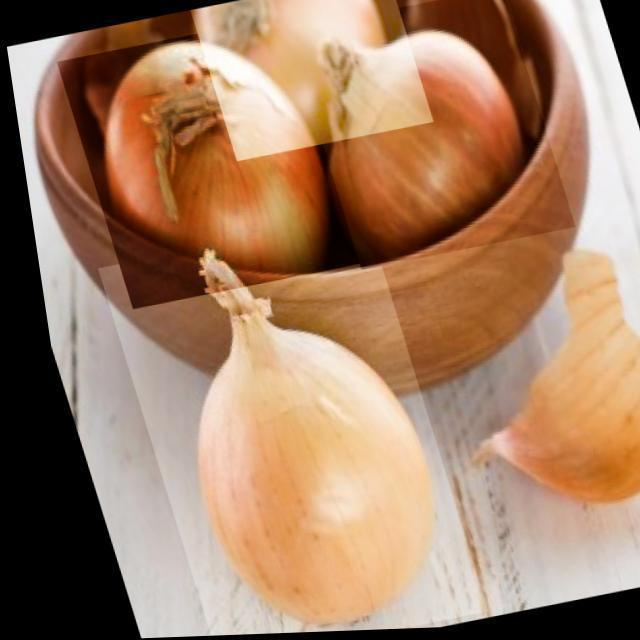Onion: (84, 216, 470, 638), (51, 17, 362, 310), (282, 0, 572, 273), (188, 0, 434, 164)
